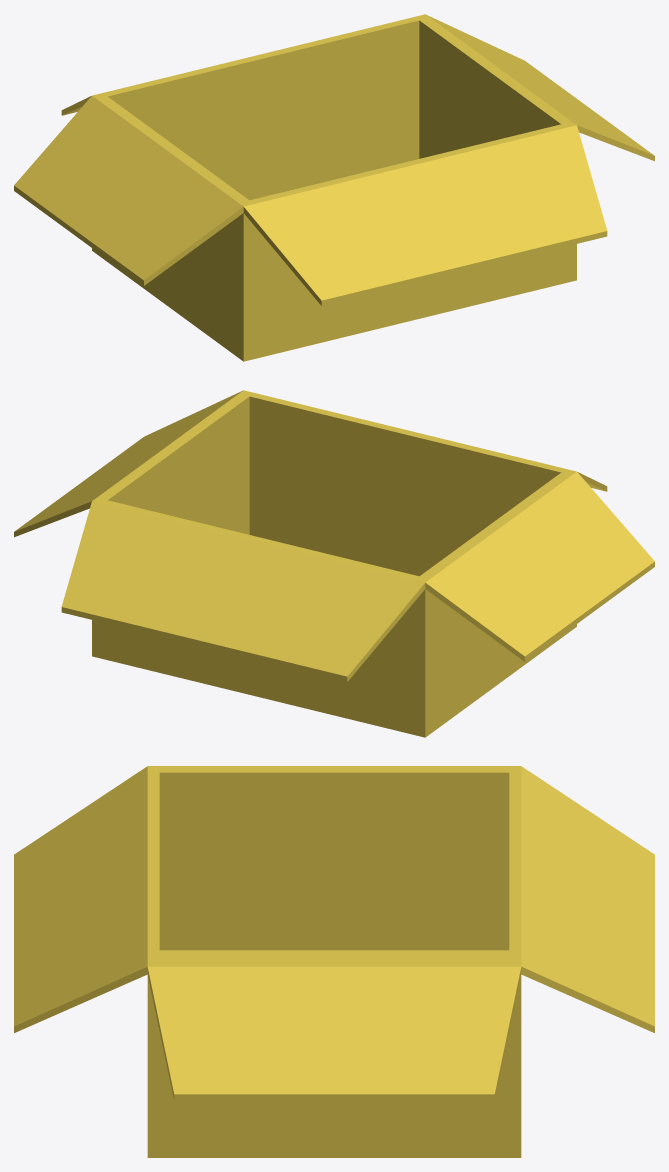
The model's file is Kutu.fbx.
3 renders of one model, top to bottom at view 1: azimuth 30°, elevation 25°; view 2: azimuth 150°, elevation 25°; view 3: azimuth 270°, elevation 25°, orthographic. The views are drawn at different scales.
Visible parts, largest first — view 1: Kutu; view 2: Kutu; view 3: Kutu.
Part boxes in pixels (x1,y1,x2,y2): Kutu: (14, 14, 654, 361); Kutu: (14, 390, 654, 737); Kutu: (14, 766, 654, 1157).
Bounding box in the file's own units: 389 × 113 × 343.
